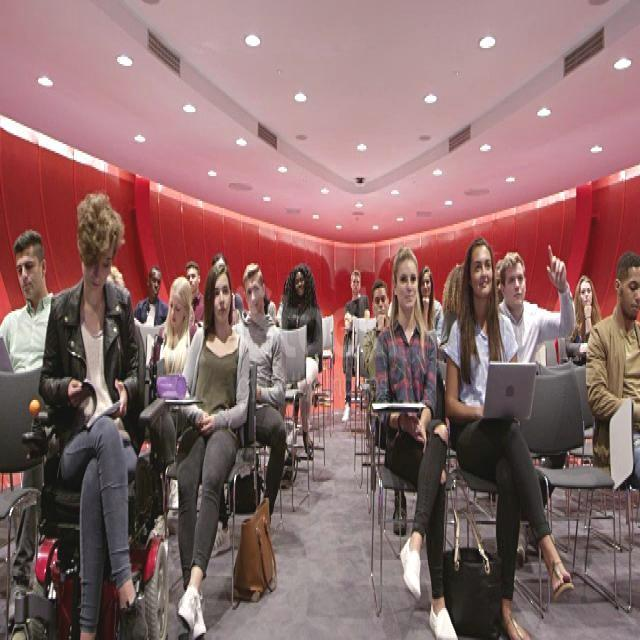Looking away: (14, 241, 47, 301), (617, 258, 640, 320), (168, 288, 186, 331)
Looking forward: (394, 250, 420, 310), (469, 241, 495, 300), (210, 270, 235, 328), (504, 258, 526, 311), (244, 266, 266, 316), (372, 283, 389, 321), (578, 277, 594, 309), (147, 266, 162, 300), (294, 267, 308, 303), (421, 266, 433, 302), (186, 265, 200, 293), (350, 267, 362, 295)
Reading-writing: (47, 187, 149, 442)
